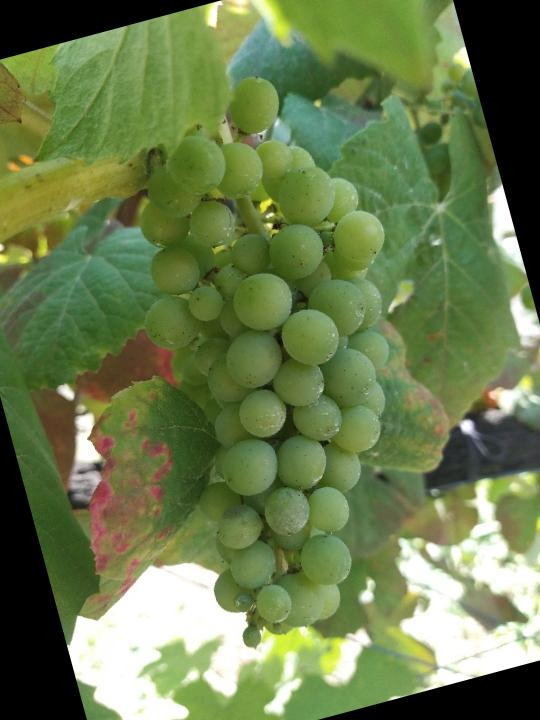grape: (84, 47, 483, 659)
